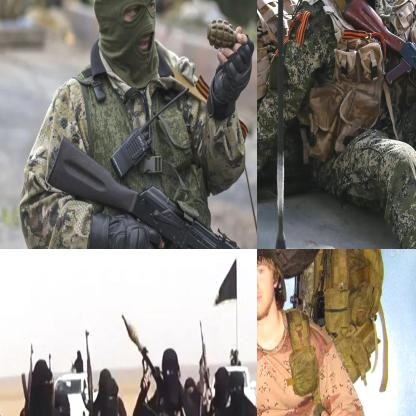rifle: (46, 134, 256, 248), (340, 0, 415, 208), (120, 311, 163, 384), (79, 329, 98, 415), (18, 342, 38, 415), (142, 400, 205, 415)
